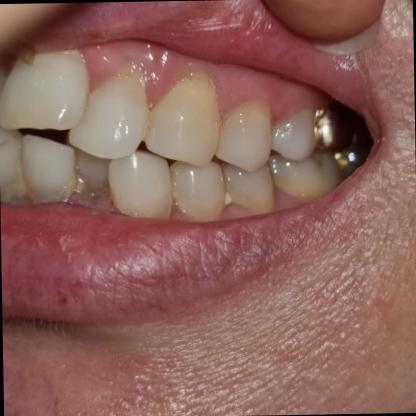Crowding: (23, 147, 152, 205)
